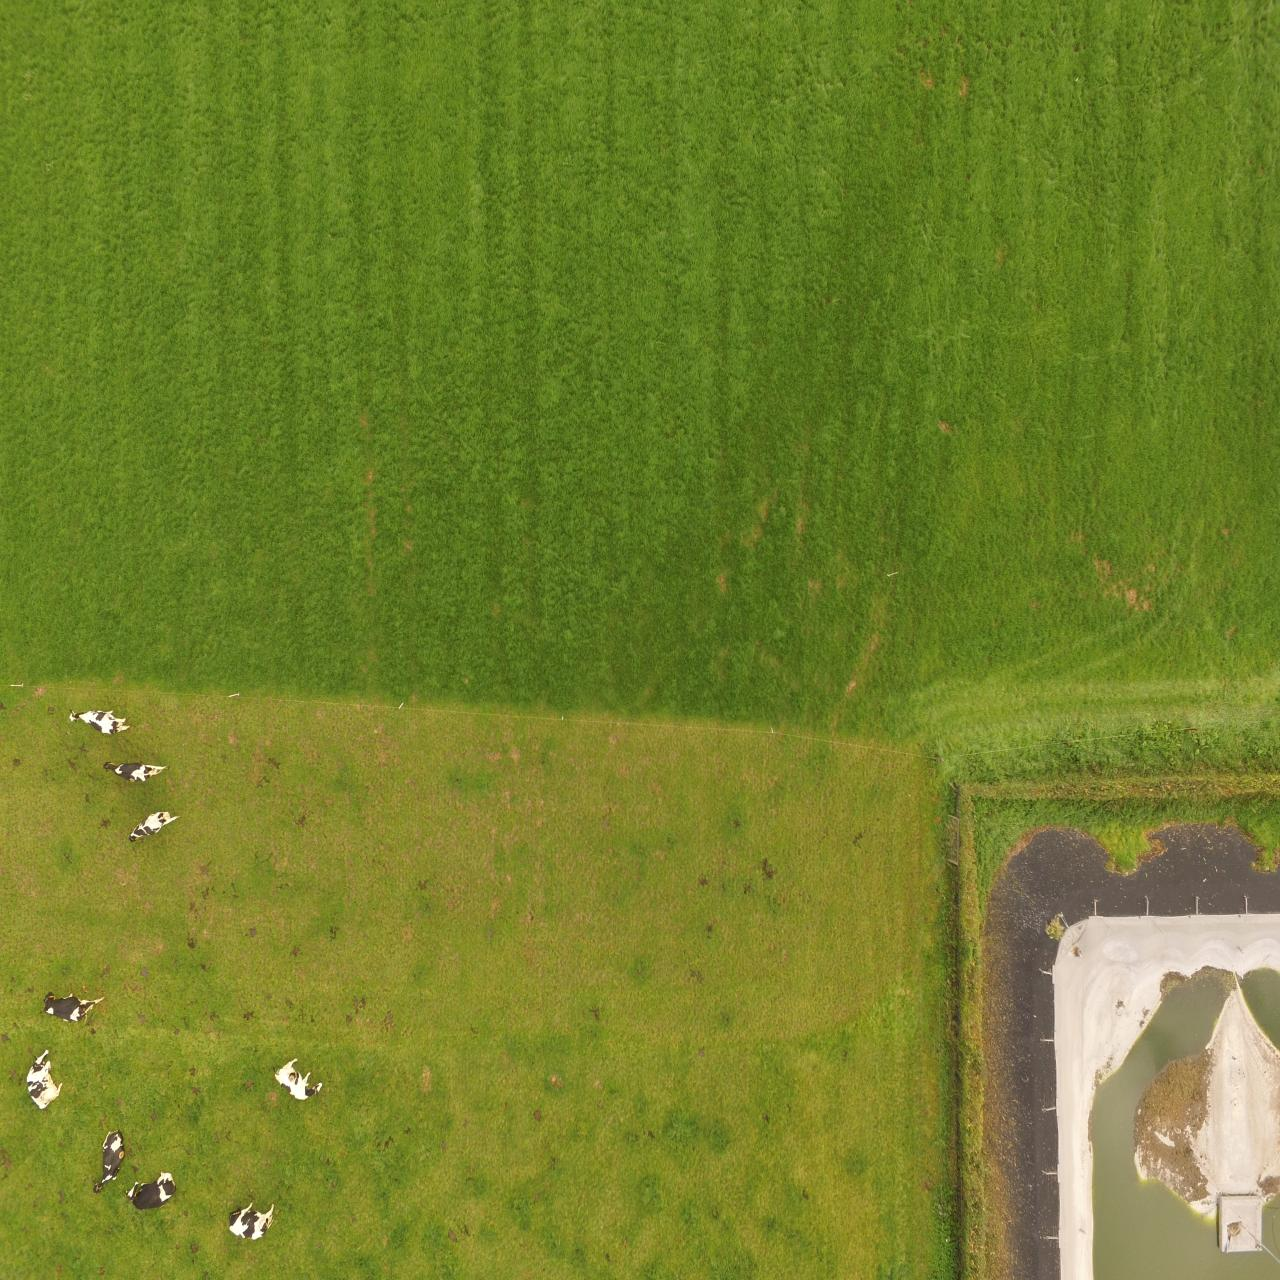cow: (222, 1193, 279, 1258), (42, 980, 104, 1032), (271, 1054, 324, 1104), (67, 703, 131, 738), (98, 1123, 128, 1198), (26, 1050, 59, 1117), (127, 805, 181, 845), (129, 1175, 183, 1212), (102, 756, 168, 784)
